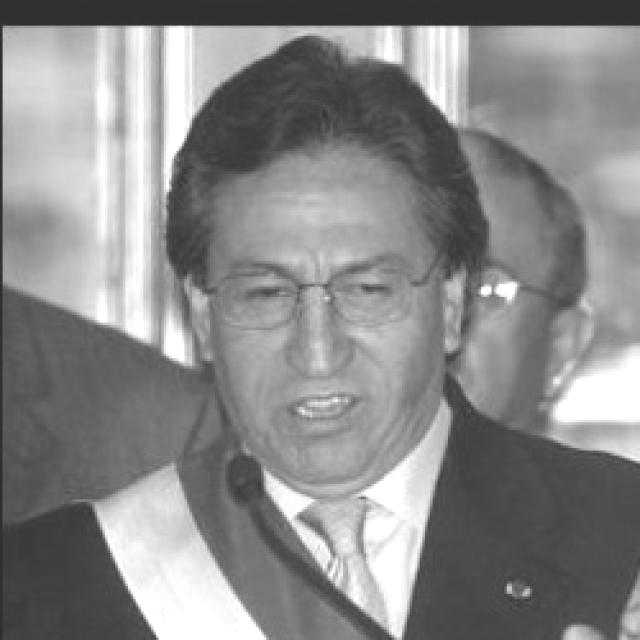real: (159, 73, 477, 490), (229, 257, 411, 324)
